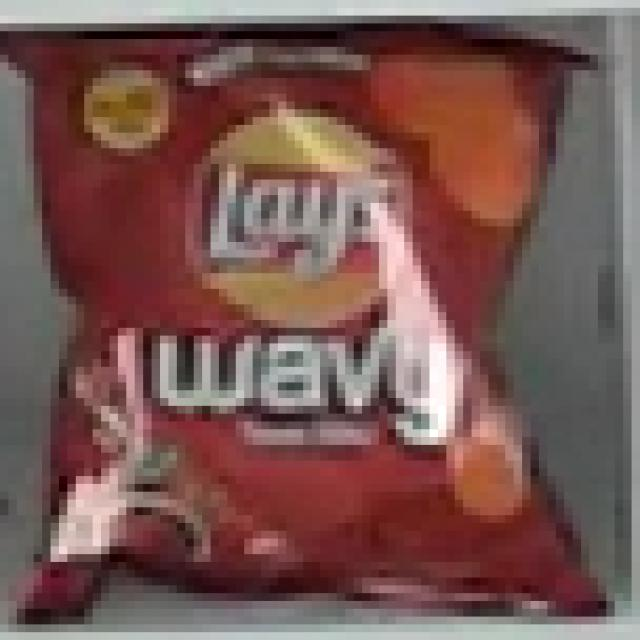Plastic: (0, 0, 632, 632)
